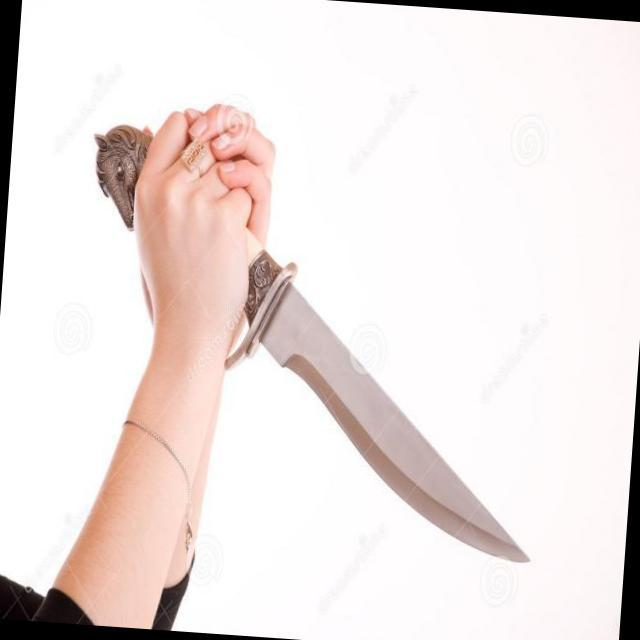Knife: (138, 95, 574, 572)
